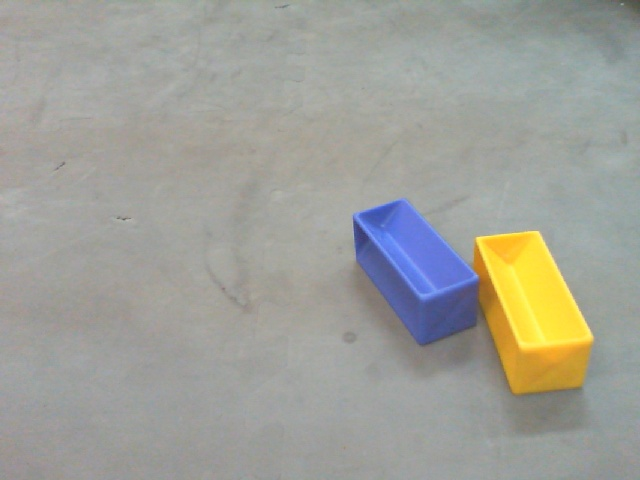BlueSample: (350, 198, 481, 361)
YellowSample: (475, 229, 596, 401)
